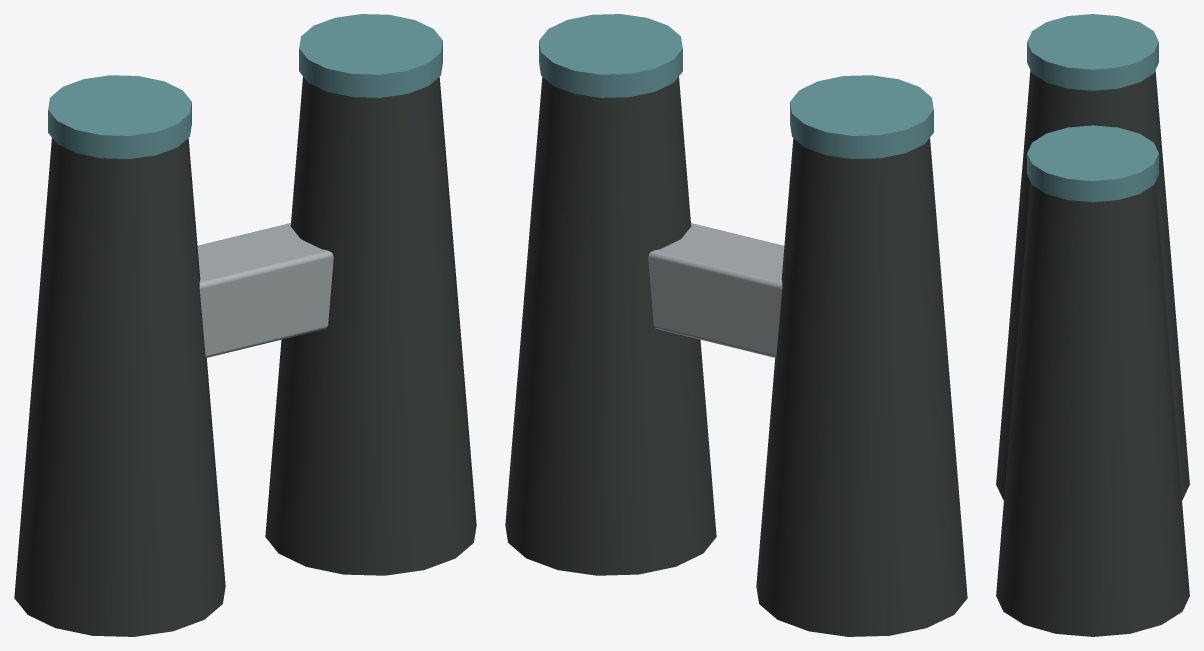
Rendered from binoculars.glb.
The picture shows the model from 3 angles, left to right: view 1: azimuth 30°, elevation 25°; view 2: azimuth 150°, elevation 25°; view 3: azimuth 270°, elevation 25°; orthographic projection. The views are drawn at different scales.
Visible parts, largest first — view 1: binoculars; view 2: binoculars; view 3: binoculars.
Boxes of the visible parts, left/top/right/bottom form: binoculars: left=14, top=14, right=476, bottom=636; binoculars: left=505, top=14, right=967, bottom=636; binoculars: left=996, top=14, right=1189, bottom=636.
Size of the model in its own units: 0.118 by 0.126 by 0.05.
